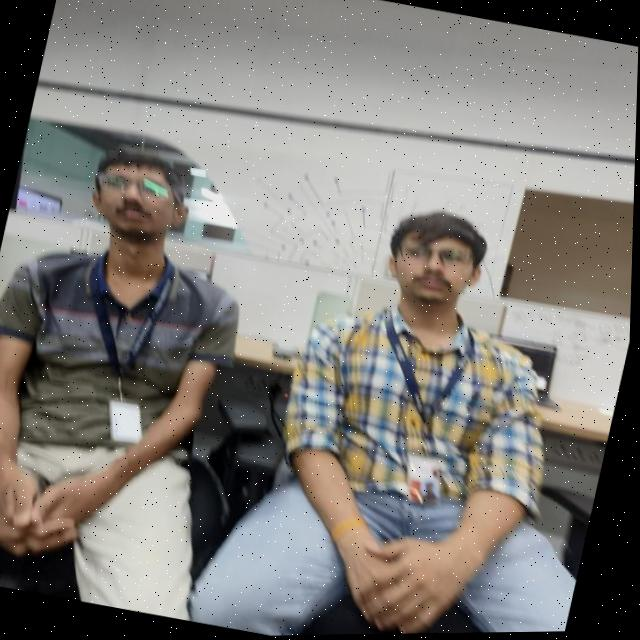id_card: (342, 309, 494, 520), (50, 238, 197, 453)
